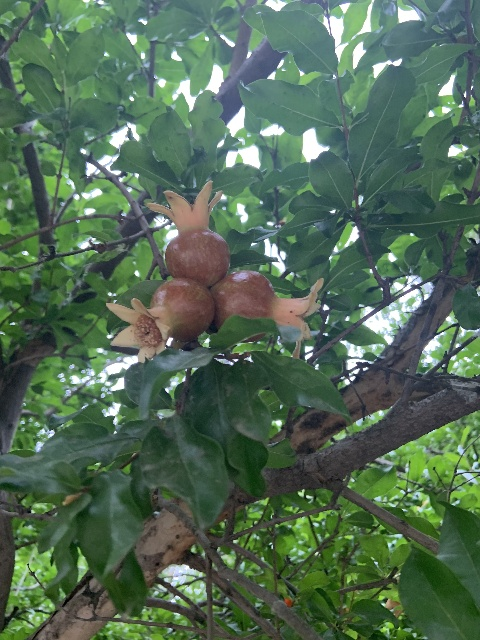early-fruit: (212, 270, 326, 358), (106, 278, 213, 363), (145, 179, 229, 286)
